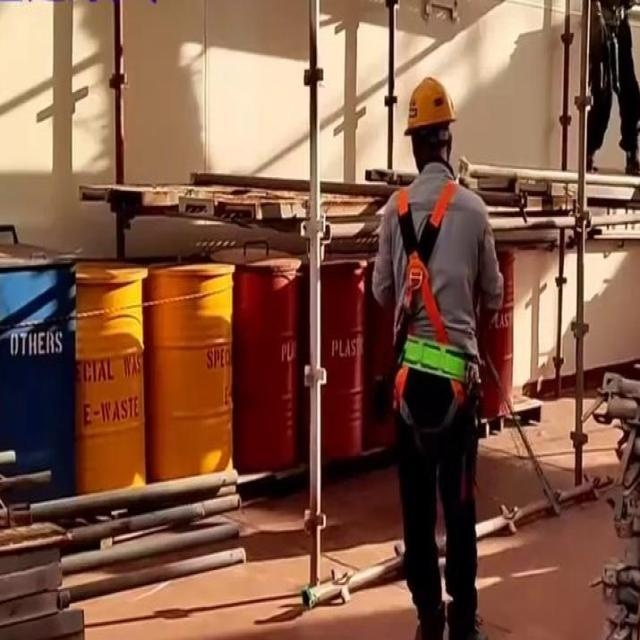Arnes_seguridad: (385, 174, 468, 349)
